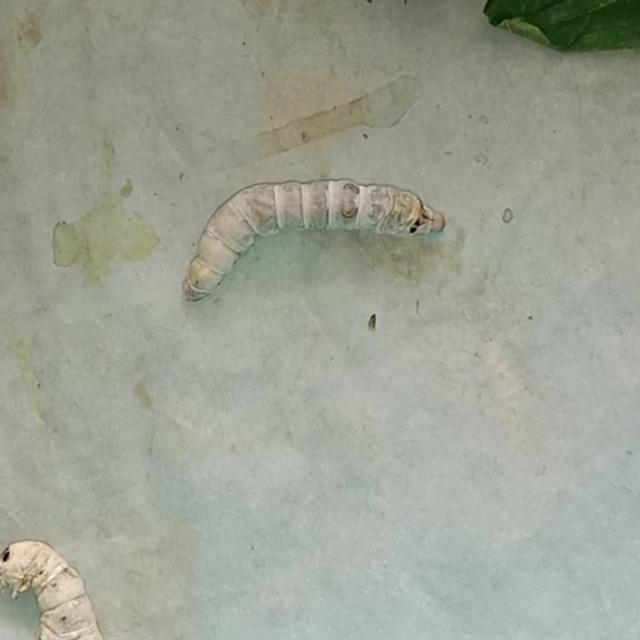Grasserie: (177, 132, 451, 328)
